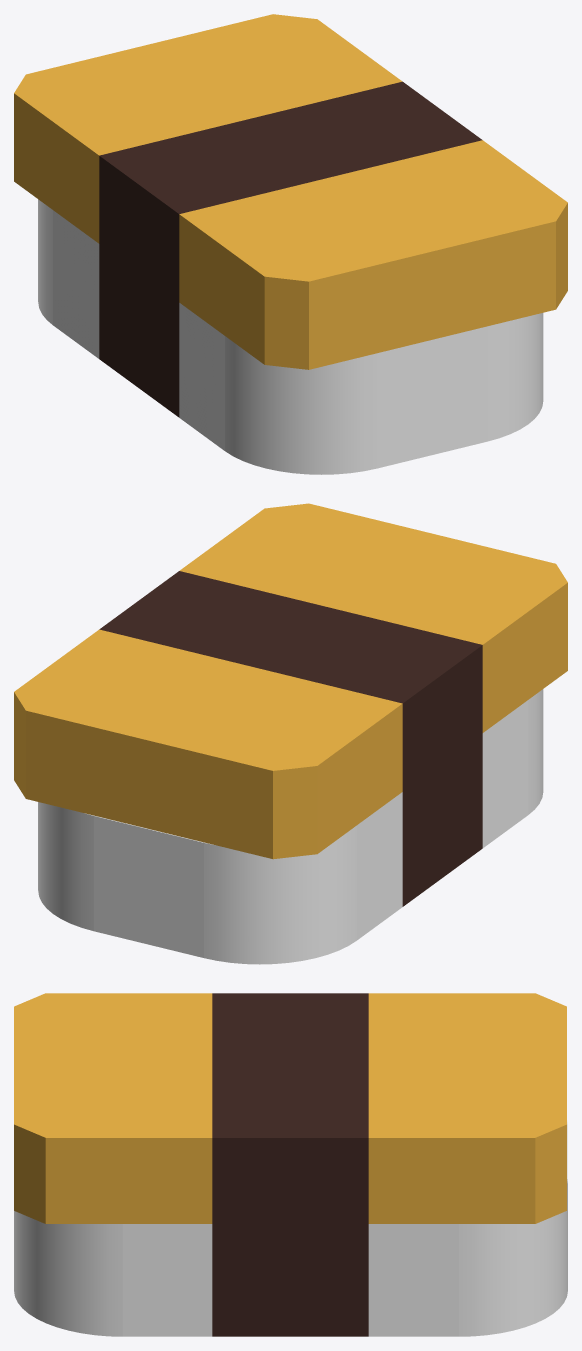
Rendered from sushiEgg.fbx.
The picture shows the model from 3 angles, top to bottom: view 1: azimuth 30°, elevation 25°; view 2: azimuth 150°, elevation 25°; view 3: azimuth 270°, elevation 25°; orthographic projection. The views are drawn at different scales.
Visible parts, largest first — view 1: egg, sushiEgg; view 2: egg, sushiEgg; view 3: egg, sushiEgg.
Boxes of the visible parts, x1,y1,x2,y2 form: egg: (14, 14, 567, 369); sushiEgg: (38, 199, 543, 474); egg: (14, 503, 567, 859); sushiEgg: (38, 689, 543, 964); egg: (14, 993, 566, 1223); sushiEgg: (14, 1120, 567, 1336).
Size of the model in its own units: 1.08 by 0.6918 by 1.75.
